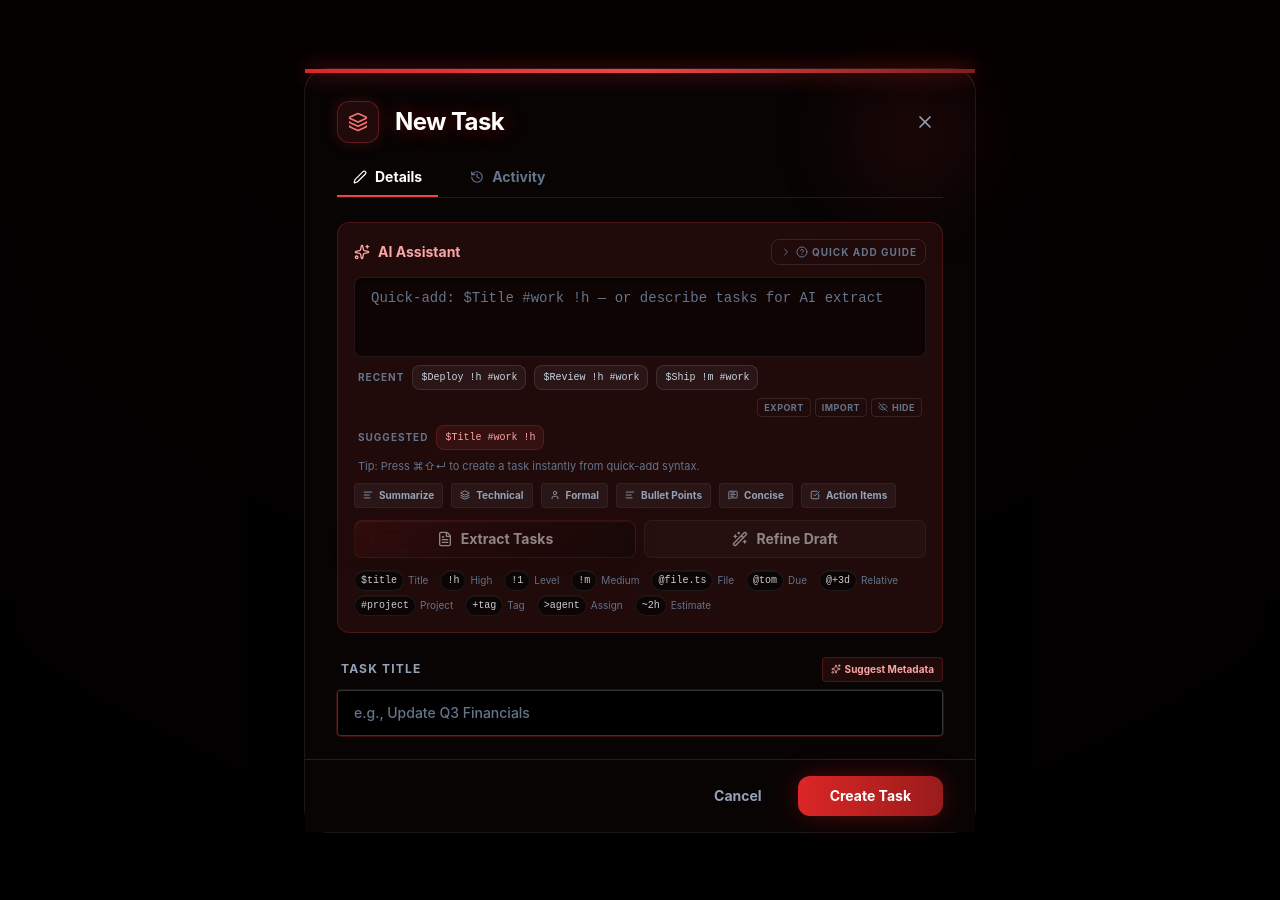
Test: TaskFormModal AI Integration › applies quick-add syntax to the task form
Replace the text in the dropdown with placeholder "Quick-add:" with "$Fix login bug !h @src/auth.ts +urgent @tom" at (640, 316), box left=354, top=276, right=926, bottom=356
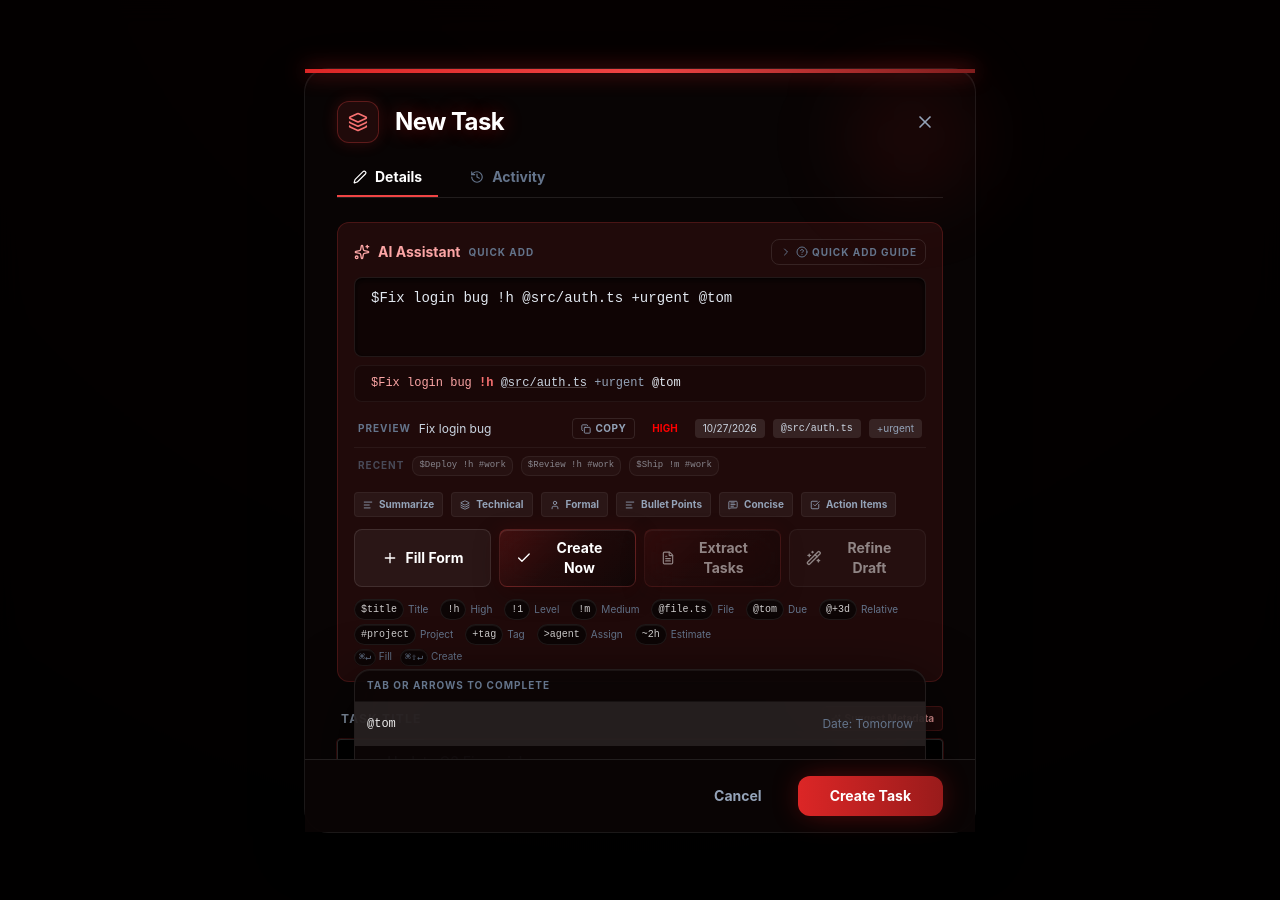
Now the button "Fill Form" is shown
Click the button "Fill Form" at (422, 558), box left=354, top=529, right=491, bottom=587
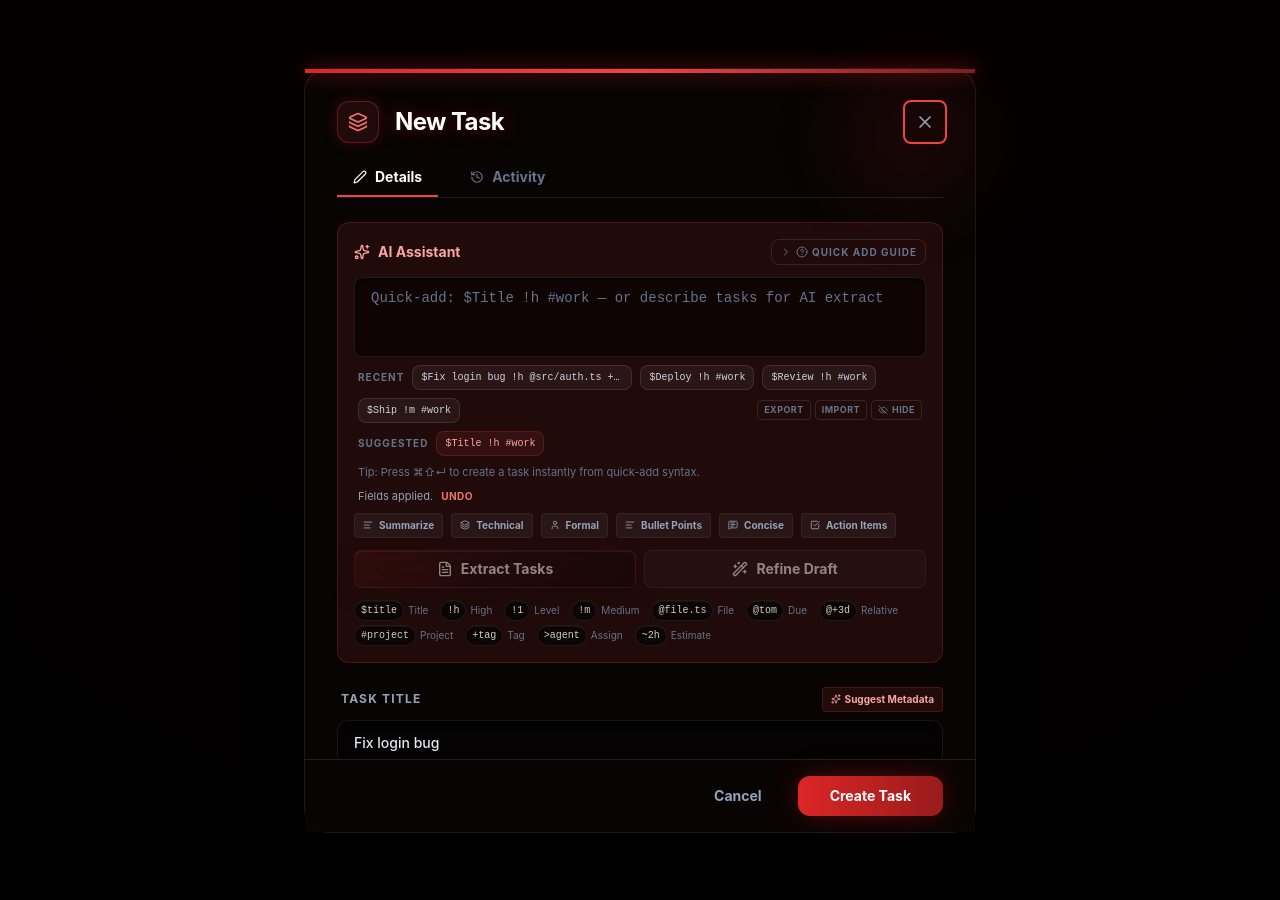
Now the field showing "Fix login bug" is shown, box left=337, top=720, right=943, bottom=758
